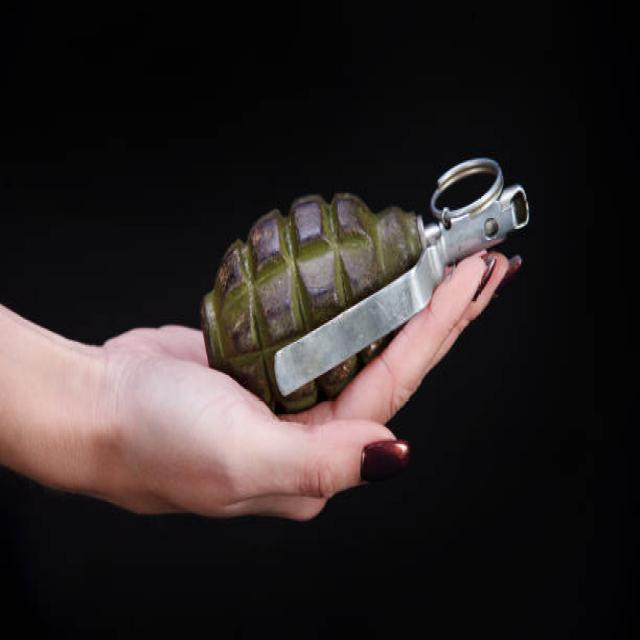grenade: (192, 147, 536, 398)
